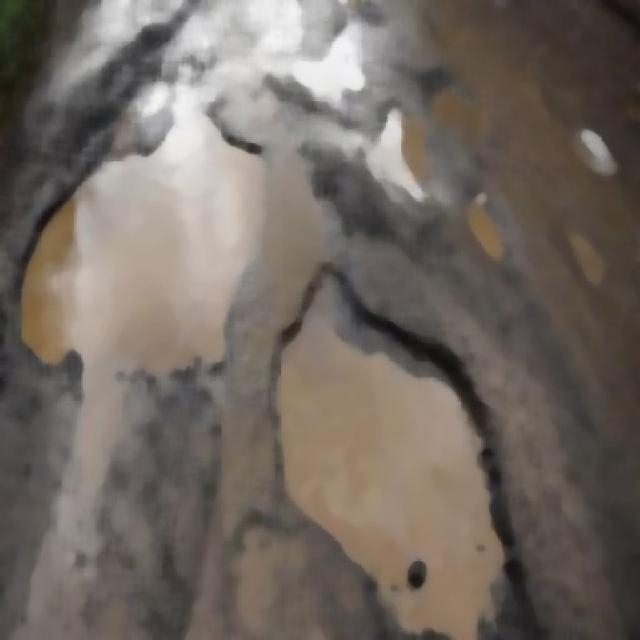Pothole: (12, 98, 265, 432), (273, 261, 492, 637)
